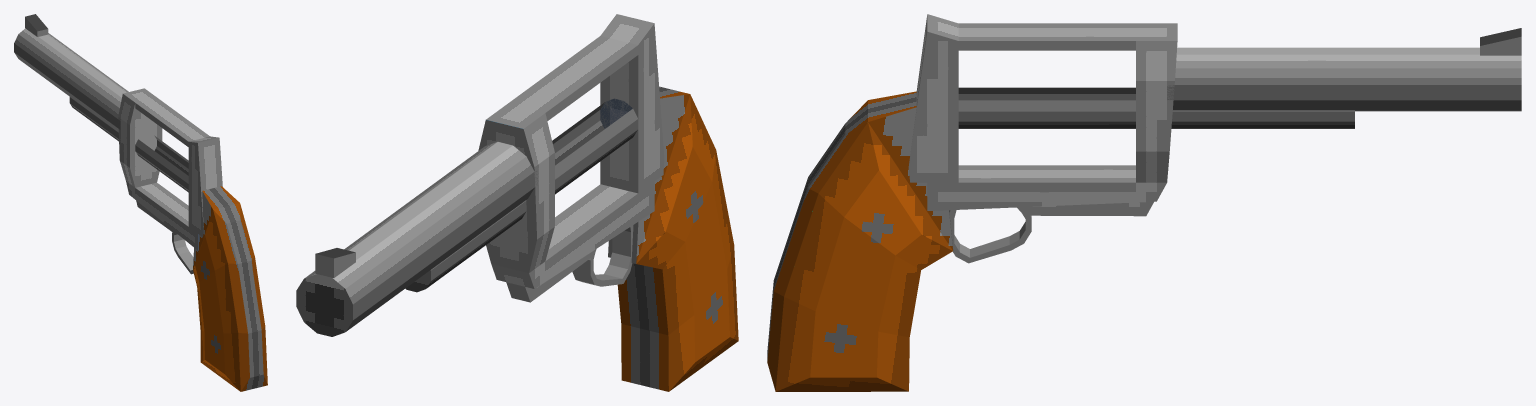
Rendered from pitolé.obj.
3 renders of one model, left to right at view 1: azimuth 30°, elevation 25°; view 2: azimuth 150°, elevation 25°; view 3: azimuth 270°, elevation 25°, orthographic. The views are drawn at different scales.
Parts seen in each view (by area): view 1: cuboid, cylinder, tube; view 2: cuboid, cylinder, tube; view 3: cuboid, cylinder, tube.
Boxes of the visible parts, bbox=[...] form: cuboid: bbox=[25, 14, 267, 391]; cylinder: bbox=[14, 28, 188, 192]; tube: bbox=[172, 232, 193, 274]; cuboid: bbox=[315, 14, 738, 391]; cylinder: bbox=[296, 98, 638, 336]; tube: bbox=[572, 225, 633, 286]; cuboid: bbox=[767, 14, 1521, 391]; cylinder: bbox=[958, 47, 1521, 128]; tube: bbox=[949, 207, 1031, 263].
Size of the model in its own units: 0.4375 by 2.37 by 4.52.
10 materials, 10 textured.
